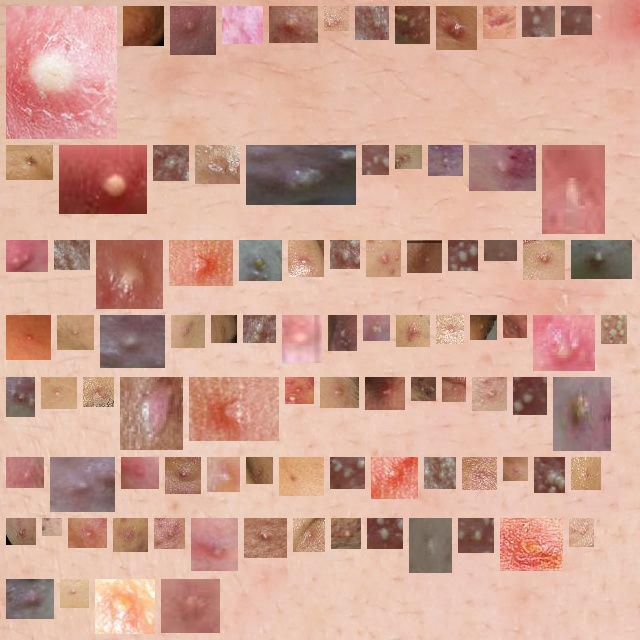pustule: (14, 14, 109, 131), (254, 153, 348, 197), (67, 153, 139, 206), (197, 385, 271, 433), (550, 153, 597, 226), (104, 248, 155, 301), (128, 385, 175, 442), (561, 385, 603, 443), (58, 465, 107, 504), (541, 323, 587, 363), (108, 323, 157, 360), (508, 526, 555, 563), (103, 587, 147, 626), (169, 587, 212, 625), (477, 153, 528, 183), (177, 248, 225, 278), (199, 526, 230, 563), (417, 526, 444, 565), (579, 248, 624, 271), (178, 14, 208, 47), (14, 323, 43, 352), (379, 465, 410, 491), (290, 323, 314, 355), (14, 587, 46, 611), (444, 14, 469, 42), (277, 14, 310, 35), (247, 248, 274, 273), (203, 153, 232, 176), (287, 465, 316, 488), (252, 526, 279, 550), (531, 248, 557, 272), (131, 14, 156, 38), (14, 153, 45, 172), (230, 14, 255, 36), (296, 248, 316, 269), (173, 465, 193, 486), (403, 14, 422, 36), (14, 248, 40, 264), (373, 385, 397, 402), (161, 153, 181, 173), (374, 248, 393, 269), (65, 323, 86, 342), (521, 385, 539, 407), (466, 526, 486, 545), (129, 465, 151, 481), (328, 385, 351, 400), (480, 385, 499, 403), (121, 526, 140, 544), (14, 465, 36, 480), (363, 14, 381, 32), (415, 248, 434, 265), (215, 465, 232, 484), (470, 465, 489, 482), (76, 526, 99, 540), (49, 385, 69, 401), (14, 385, 27, 409), (179, 323, 197, 340), (338, 465, 357, 481), (542, 465, 557, 485), (375, 526, 395, 541), (491, 14, 508, 31), (404, 323, 422, 339), (301, 526, 317, 544), (436, 153, 455, 168), (62, 248, 82, 262), (336, 323, 349, 343), (432, 465, 448, 481), (530, 14, 547, 29), (579, 465, 593, 482), (162, 526, 177, 541), (456, 248, 470, 263), (91, 385, 106, 399), (339, 526, 353, 541), (251, 323, 268, 335), (569, 14, 584, 27), (338, 248, 352, 261), (68, 587, 81, 600), (444, 323, 456, 336), (370, 153, 381, 167), (14, 526, 28, 537), (293, 385, 306, 396), (609, 323, 619, 336), (254, 465, 265, 476), (219, 323, 229, 335), (577, 526, 586, 539), (371, 323, 382, 333), (478, 323, 489, 332), (403, 153, 414, 161), (332, 14, 341, 23), (419, 385, 428, 393), (450, 385, 458, 394), (511, 465, 520, 473), (511, 323, 519, 330)
